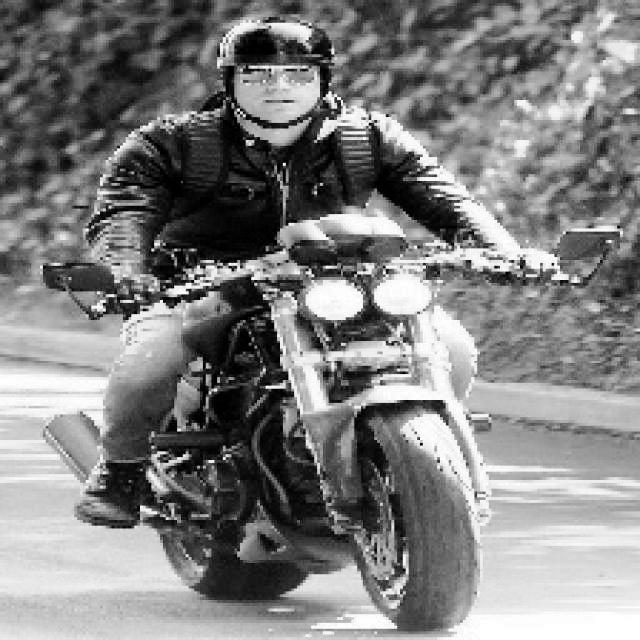Bike: (147, 249, 517, 629)
